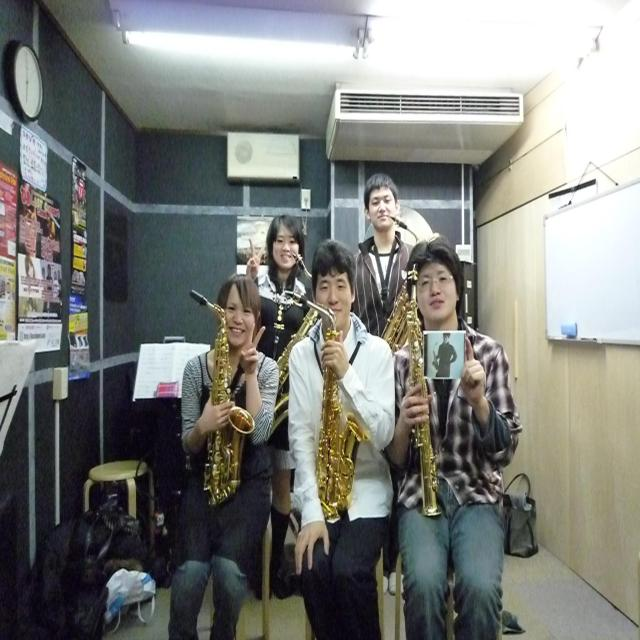saxophone: (277, 286, 372, 526), (185, 286, 256, 508), (256, 294, 328, 440)
